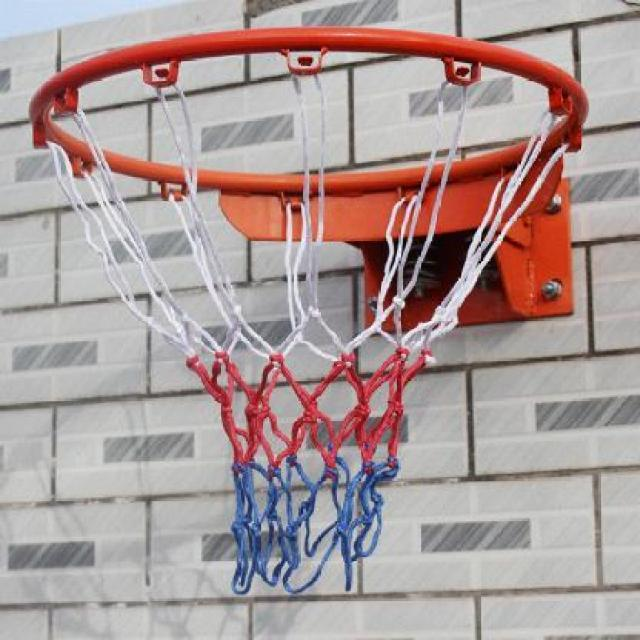rim: (28, 26, 592, 594)
